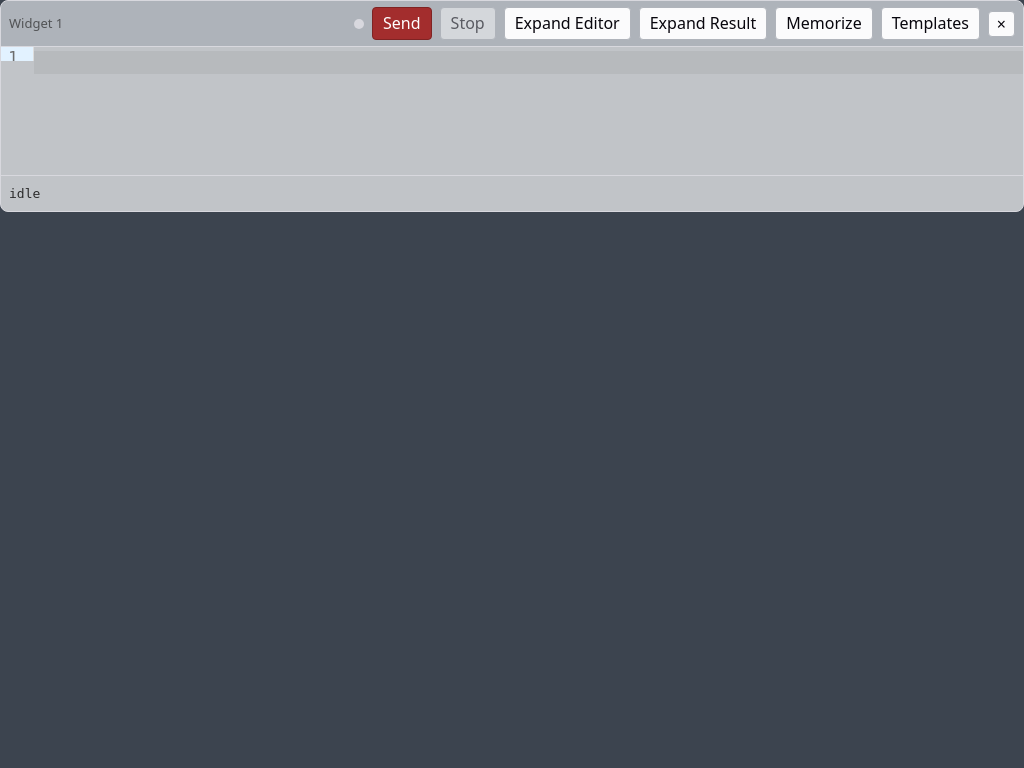
it: Widget › saves the current code under the typed name and closes the dialog
Click the button "Memorize".
click(824, 24)  # box 775,7 -> 873,40
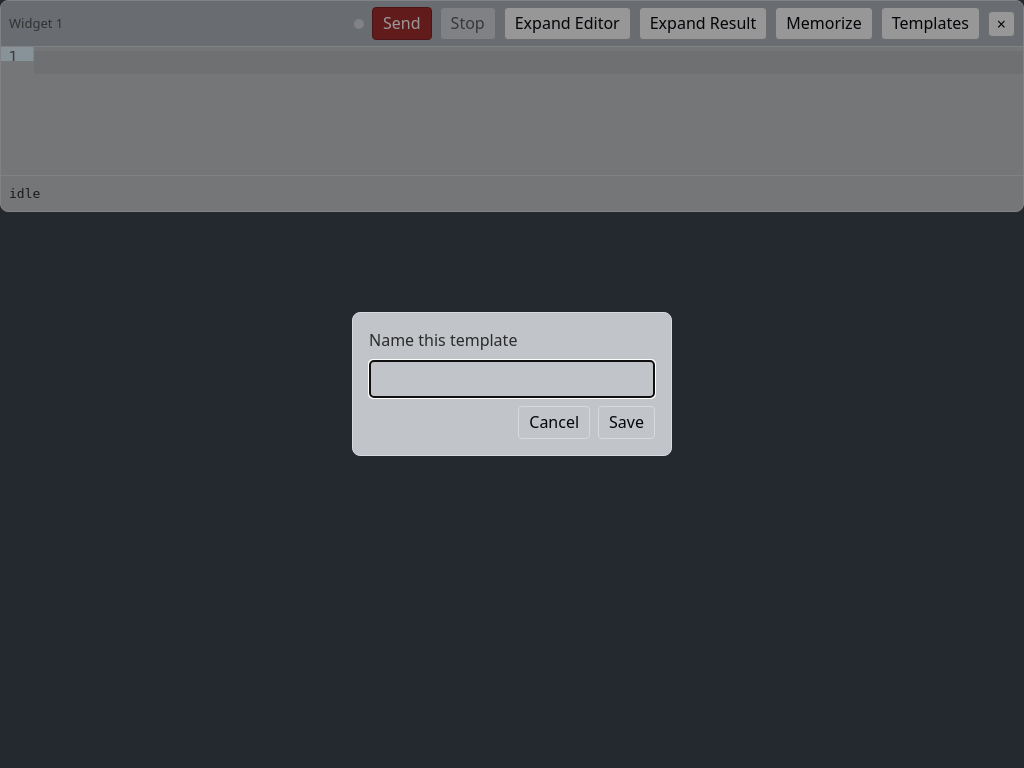
Type "my template" into the field labelled "Name this template".
click(512, 379); type("my template")  # box 369,360 -> 655,398
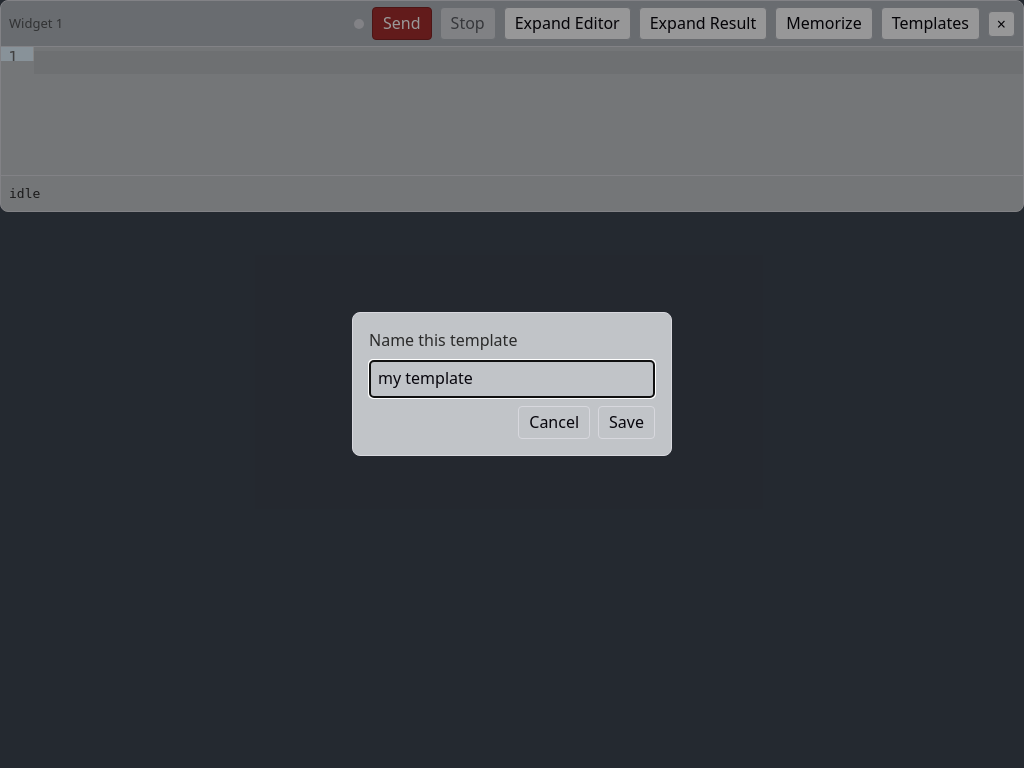
Click the button "Save".
click(627, 422)  # box 598,406 -> 655,439
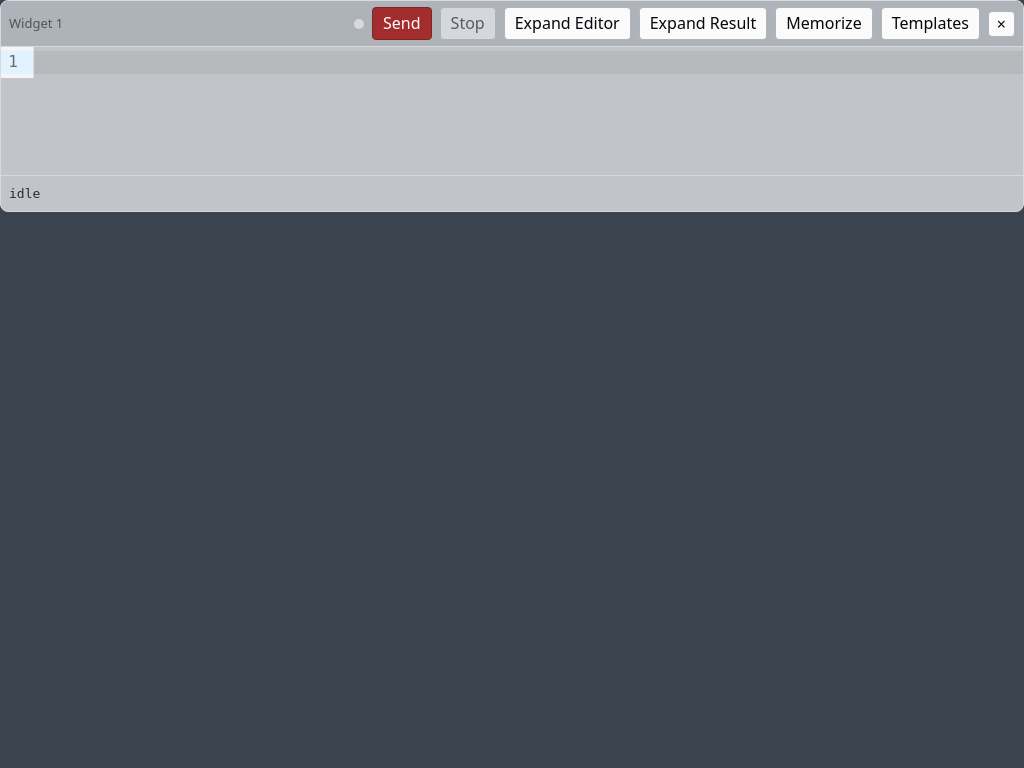
Expected: the label labelled "Name this template" is gone
